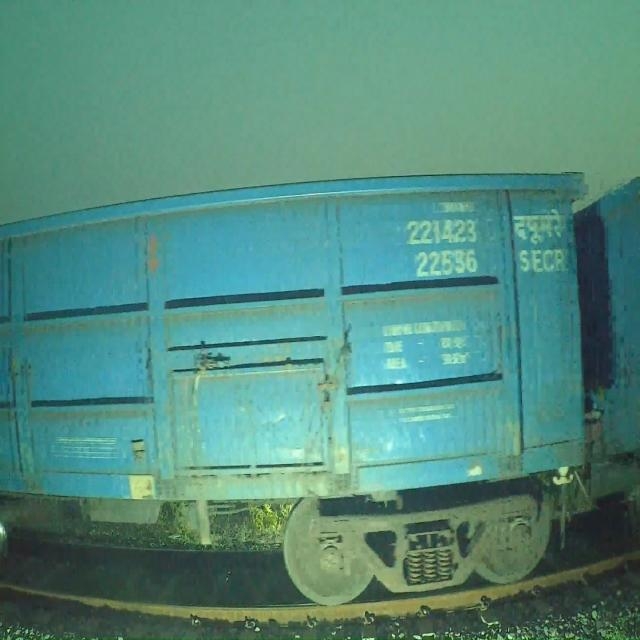WAgon-uic: (0, 168, 588, 606), (517, 178, 640, 533)
uic: (407, 214, 482, 280)
